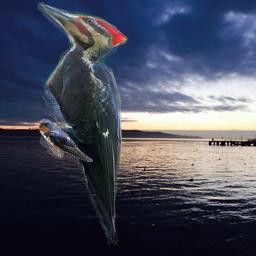Swallow: (37, 119, 93, 162)
Woodpecker: (35, 2, 128, 245)
